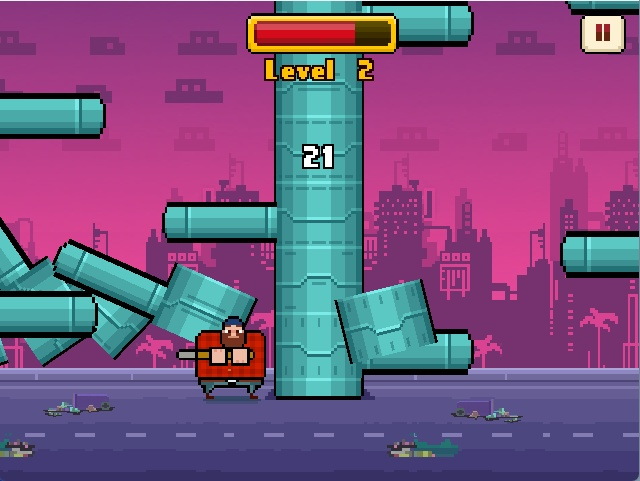left_obs: (157, 195, 281, 250)
timberman: (172, 311, 275, 406)
